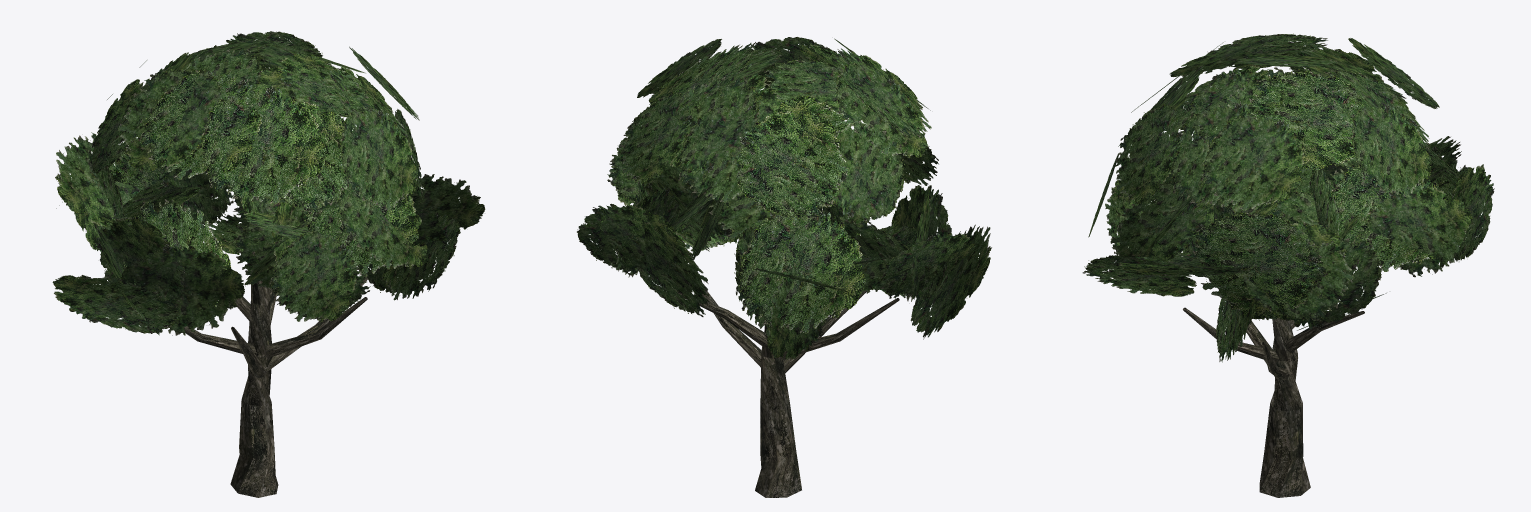
The model's file is tree2.gltf.
3 views of the same model, side by side, from view 1: azimuth 30°, elevation 25°; view 2: azimuth 150°, elevation 25°; view 3: azimuth 270°, elevation 25° (orthographic).
Parts seen in each view (by area): view 1: tree2_new; view 2: tree2_new; view 3: tree2_new.
Boxes of the visible parts, x1,y1,x2,y2 form: tree2_new: [52, 31, 485, 497]; tree2_new: [577, 37, 991, 497]; tree2_new: [1082, 33, 1494, 497].
Size of the model in its own units: 40.8 by 43.3 by 40.8.
2 materials, 2 textured.
